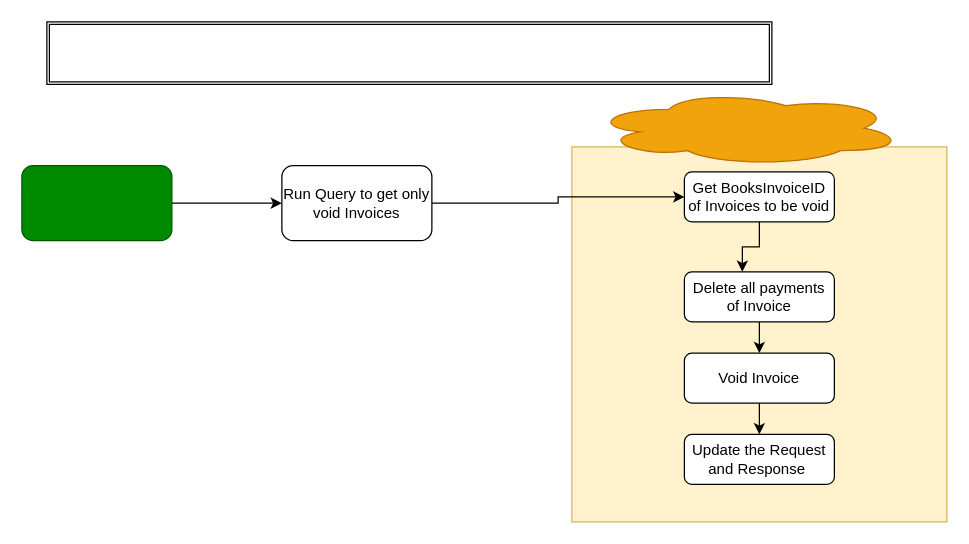
The diagram is 969 pixels wide and 544 high, and some of its shapes have lost their labels. The shapes that lost their labels are listed below. From the top down, each one's centre as x and y in pixels, then its label:
the point at 409,52: FRONT DESK VOID INVOICE FLOW
the point at 746,127: All OPs Inside Loop
the point at 96,202: Extract VoidInvoice
